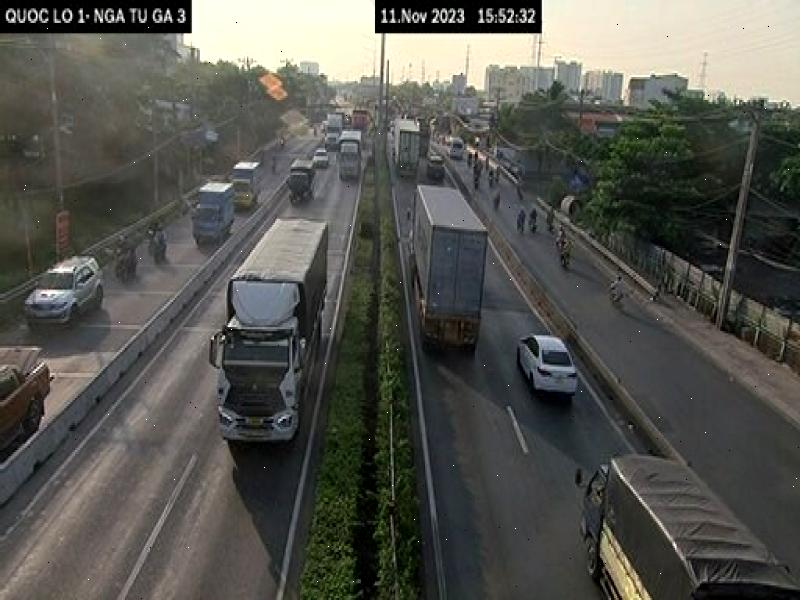truck: (577, 448, 800, 600), (216, 218, 328, 446), (406, 181, 488, 362), (195, 176, 232, 247), (389, 115, 423, 178)
